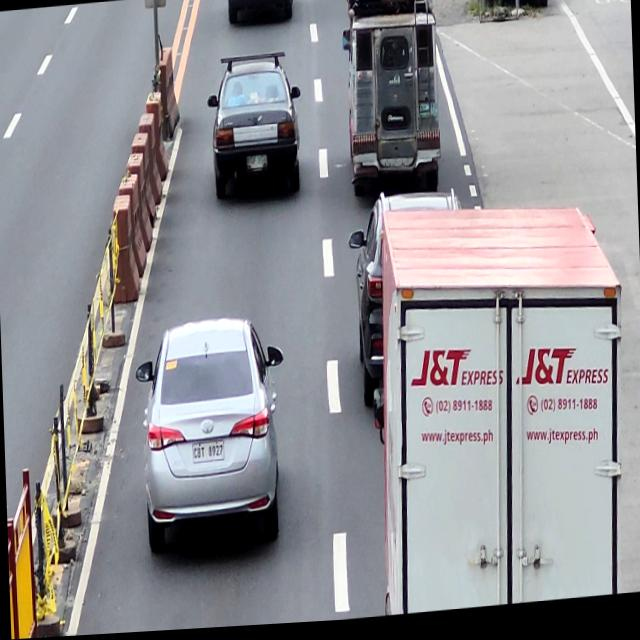Car: (133, 313, 289, 556), (347, 193, 466, 412), (207, 54, 303, 204)
Jeep: (341, 5, 443, 206)
License-Plate: (190, 441, 226, 464), (244, 156, 267, 175), (418, 108, 437, 125)
Truck: (368, 196, 632, 621)
